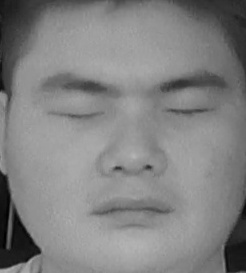blink: (163, 95, 220, 132), (55, 98, 106, 134)
mouth: (88, 188, 176, 234)
